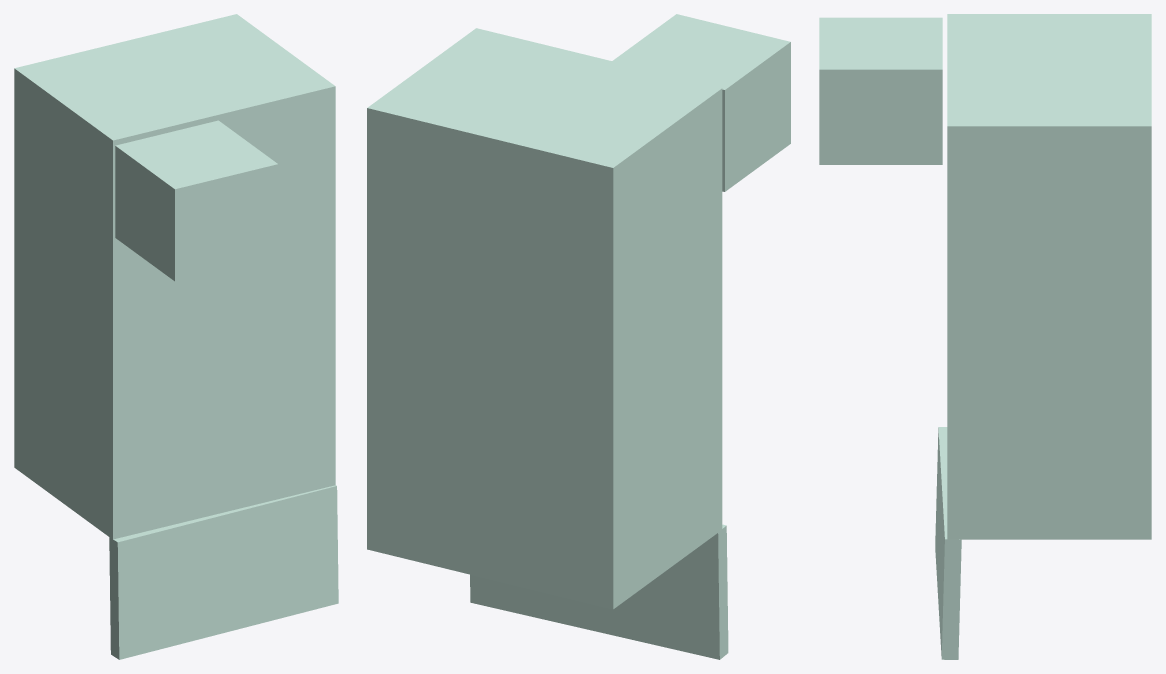
3 views of the same model, side by side, from view 1: azimuth 30°, elevation 25°; view 2: azimuth 150°, elevation 25°; view 3: azimuth 270°, elevation 25° (orthographic). The views are drawn at different scales.
Parts seen in each view (by area): view 1: Renderer Node; view 2: Renderer Node; view 3: Renderer Node.
Boxes of the visible parts, box(x1,y1,x2,y2) form: Renderer Node: box(14, 14, 338, 659); Renderer Node: box(367, 14, 790, 659); Renderer Node: box(819, 14, 1151, 659).
Bounding box in the file's own units: 0.4382 × 0.9687 × 0.5469.
